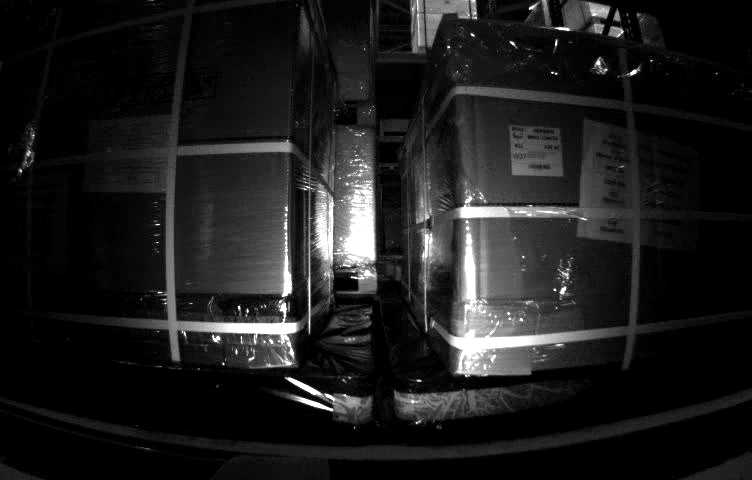True Barcode: (509, 125, 565, 176)
